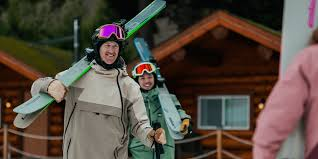skis: (10, 1, 165, 132), (271, 1, 318, 158), (131, 37, 183, 134)
